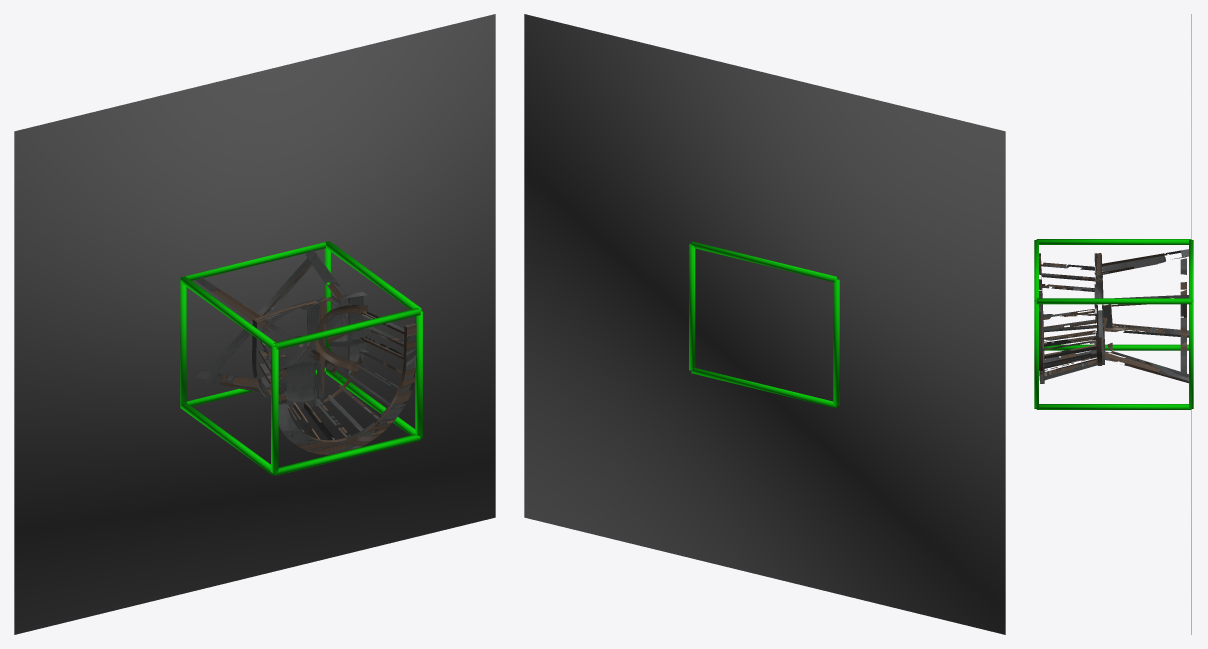
The picture shows the model from 3 angles, left to right: view 1: azimuth 30°, elevation 25°; view 2: azimuth 150°, elevation 25°; view 3: azimuth 270°, elevation 25°; orthographic projection. The views are drawn at different scales.
Size of the model in its own units: 2 by 2 by 0.683.
